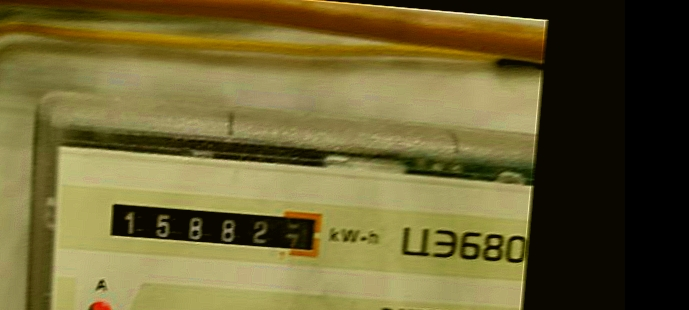1: (123, 207, 139, 233)
2: (252, 216, 269, 241)
5: (154, 208, 173, 236)
7: (285, 227, 301, 247)
8: (187, 212, 205, 239), (220, 214, 237, 240)
screen: (95, 183, 333, 266)
